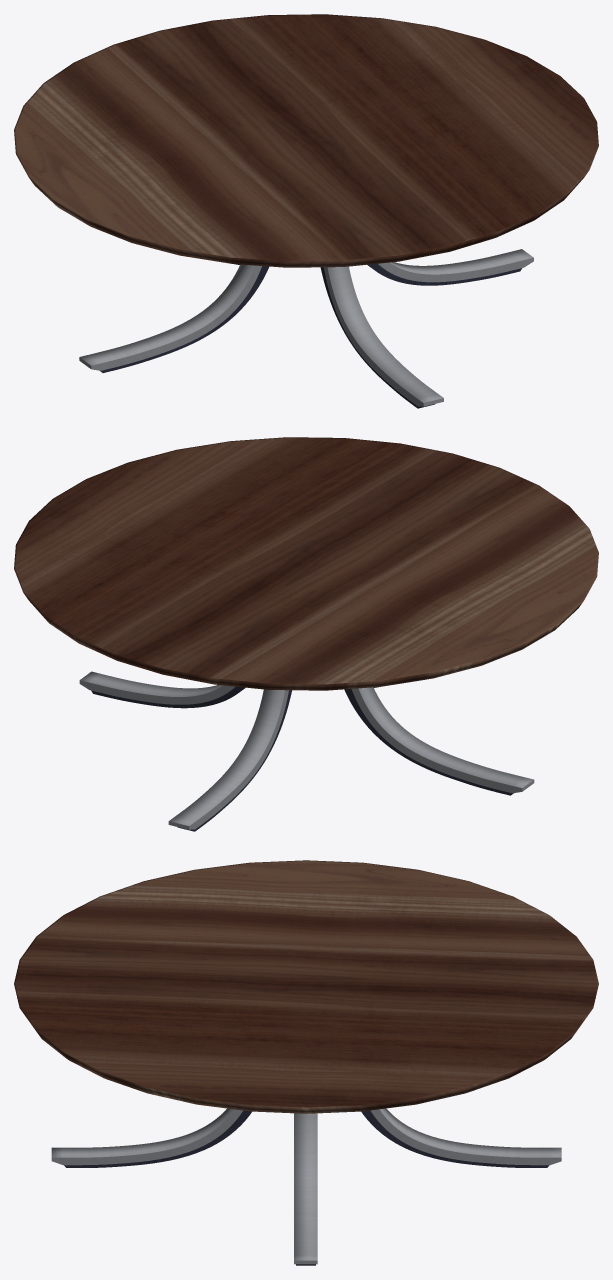
Rendered from table10.glb.
The picture shows the model from 3 angles, top to bottom: view 1: azimuth 30°, elevation 25°; view 2: azimuth 150°, elevation 25°; view 3: azimuth 270°, elevation 25°; orthographic projection.
Parts seen in each view (by area): view 1: Table_-_LOW_Cylinder; view 2: Table_-_LOW_Cylinder; view 3: Table_-_LOW_Cylinder.
Boxes of the visible parts, box(x1,y1,x2,y2) form: Table_-_LOW_Cylinder: box(14, 14, 598, 408); Table_-_LOW_Cylinder: box(14, 437, 598, 831); Table_-_LOW_Cylinder: box(14, 860, 598, 1265).
Size of the model in its own units: 2 by 0.6795 by 2.
1 material, 1 textured.
